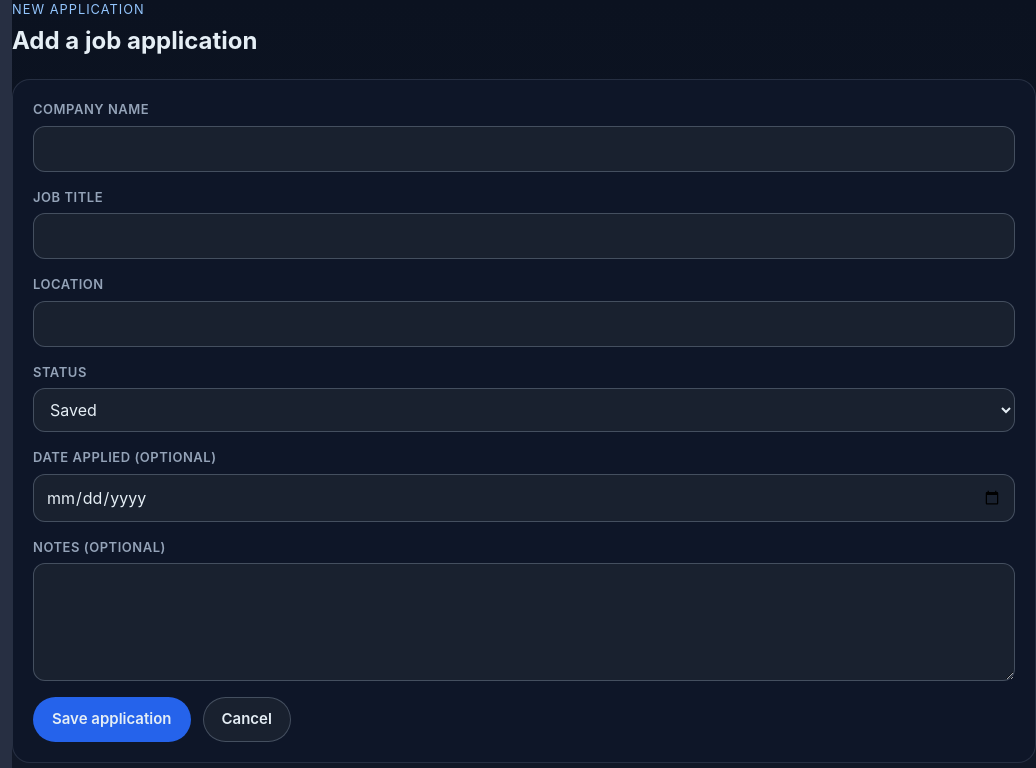
Test: application form — create › saves a valid application and the list shows it
Step 1. Type "Fishermend" into the field labelled "Company name" → [524, 149], box [33,126,1015,172]
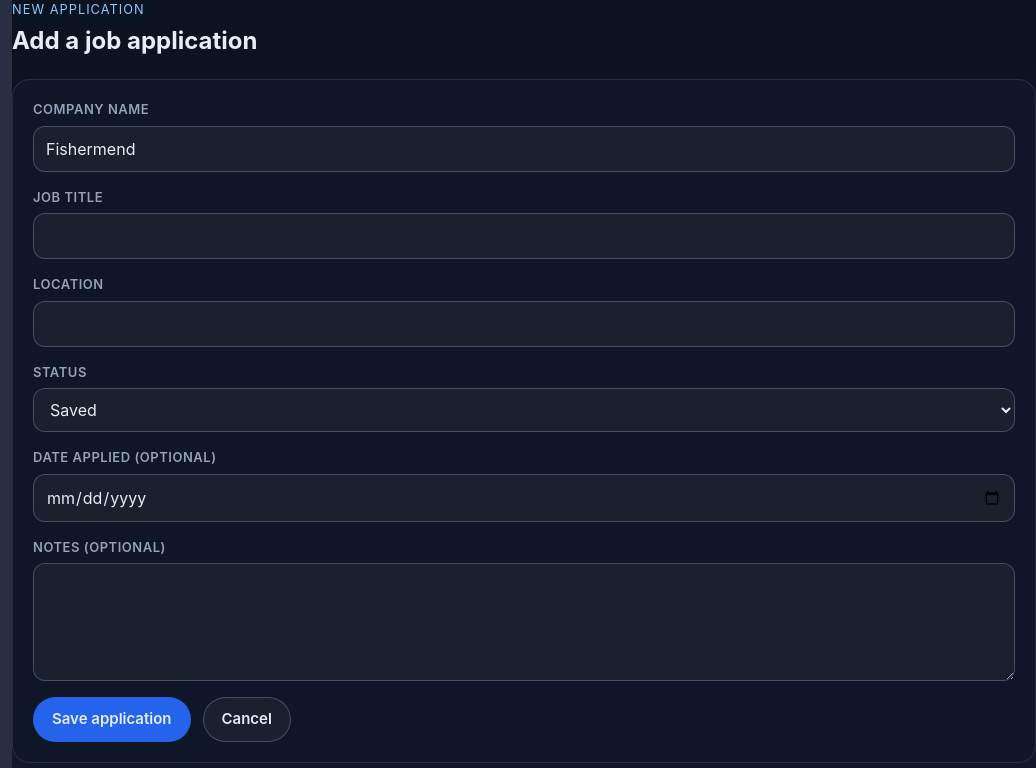
Step 2. Type "Frontend Engineer" into the field labelled "Job title" → [524, 236], box [33,213,1015,259]
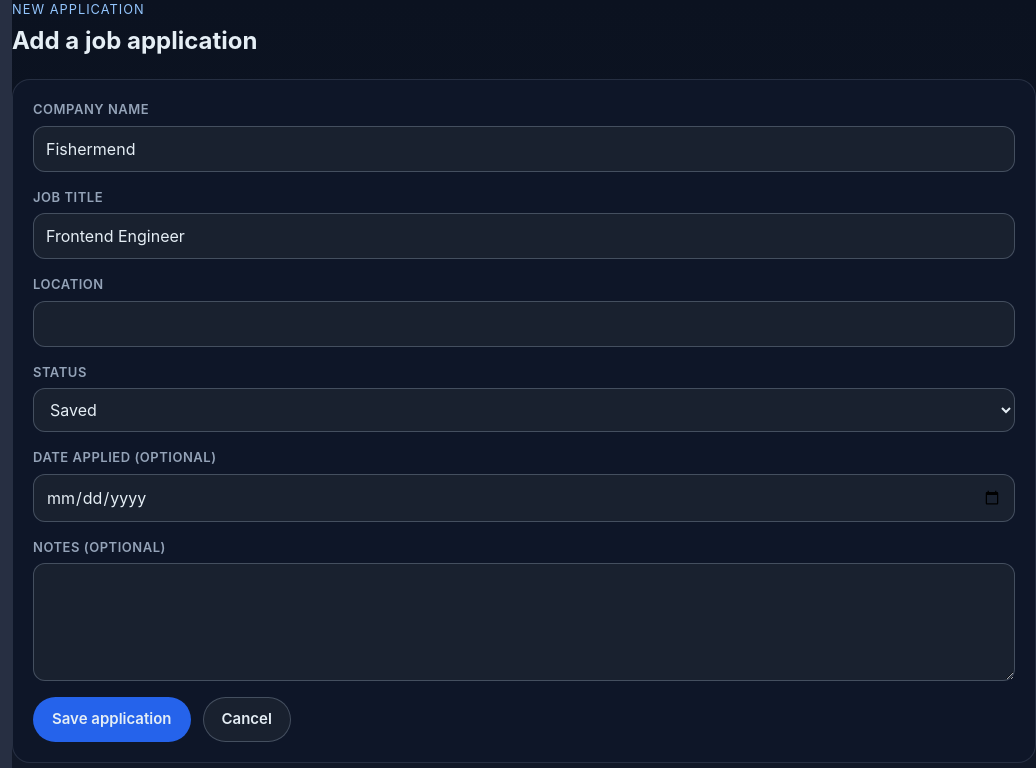
Step 3. Type "Auckland, NZ" into the field labelled "Location" → [524, 324], box [33,301,1015,347]
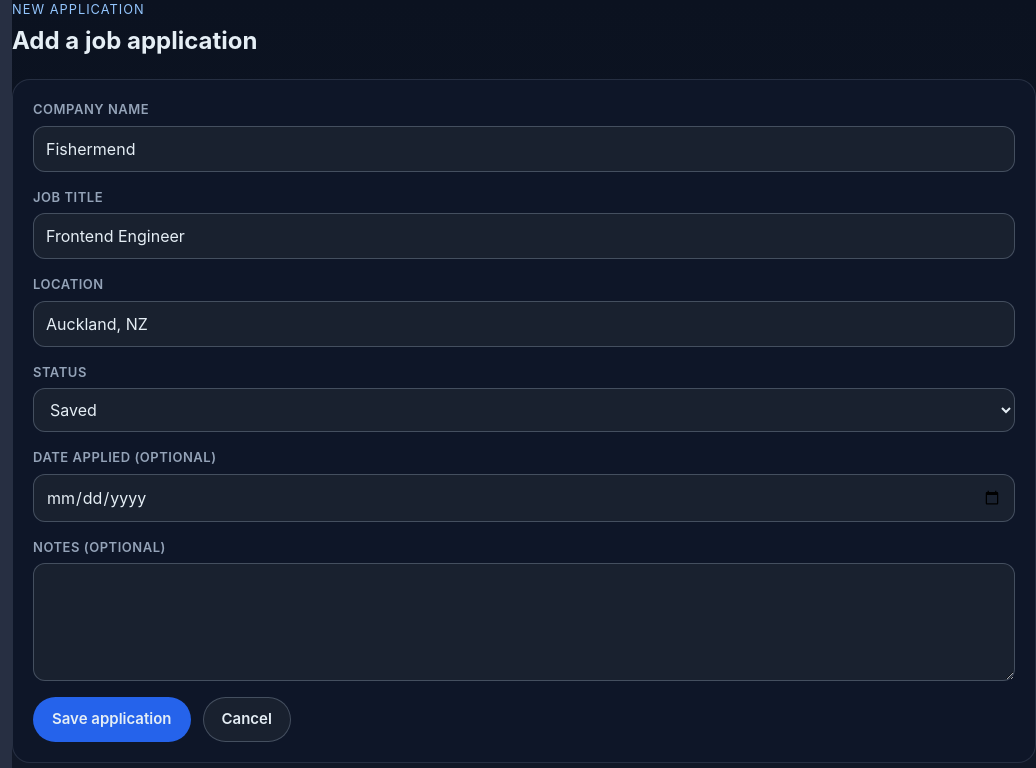
Step 4. Click the button "Save application" → [112, 719], box [33,697,190,742]
(page scrolled)
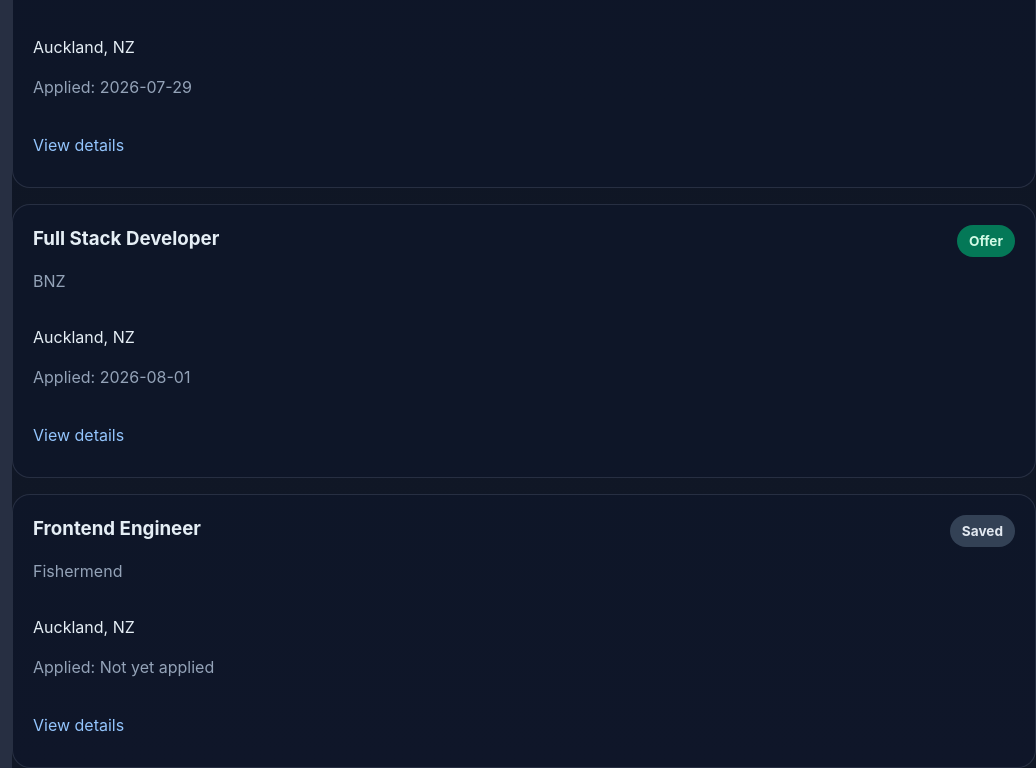
expect the text "Fishermend" is shown: met, box [33,561,122,581]
